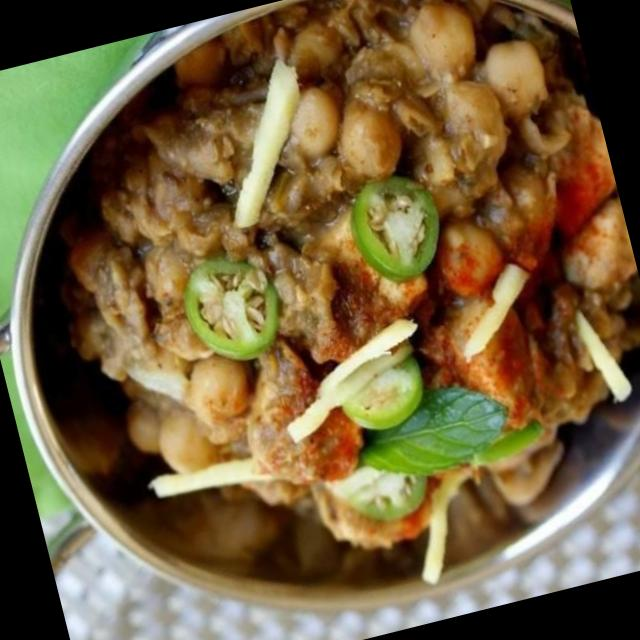Chole: (4, 0, 640, 611)
